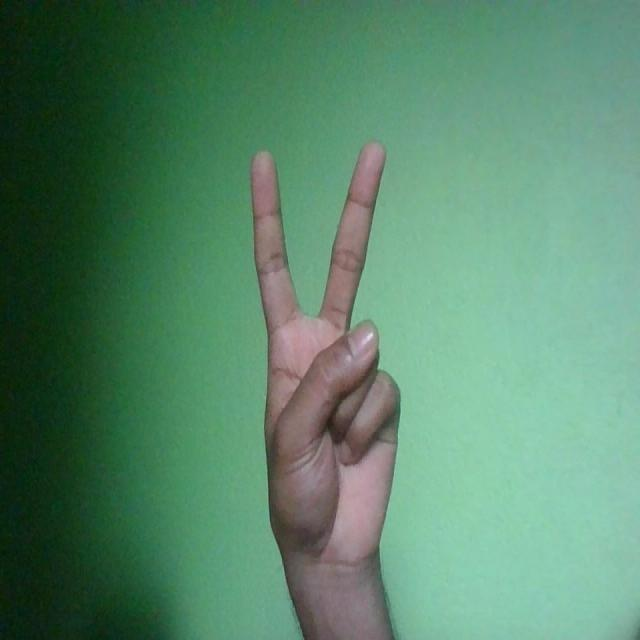Fist: (250, 140, 401, 586)
